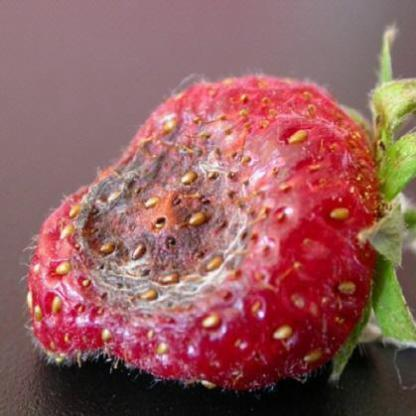Strawberry_Anthracnose_Fruit_Rot: (55, 110, 304, 326)
